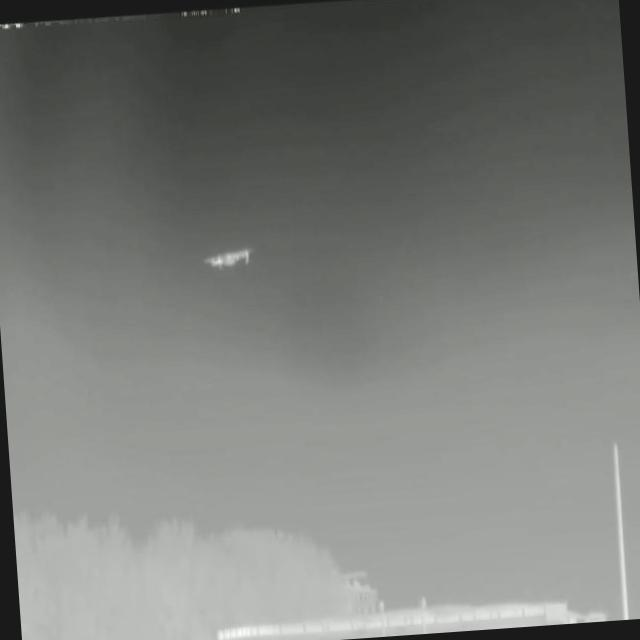DRONE: (192, 235, 264, 281)
